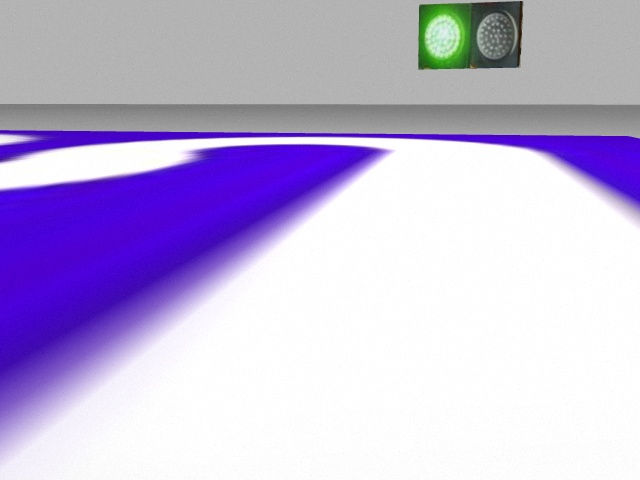green: (417, 5, 472, 69)
